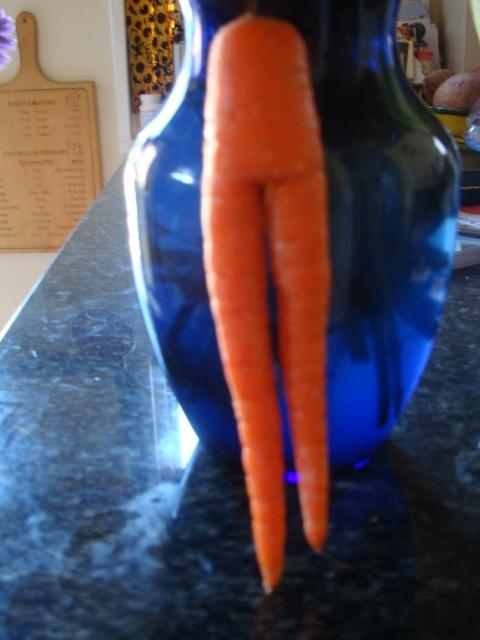carrot: (200, 9, 332, 596)
